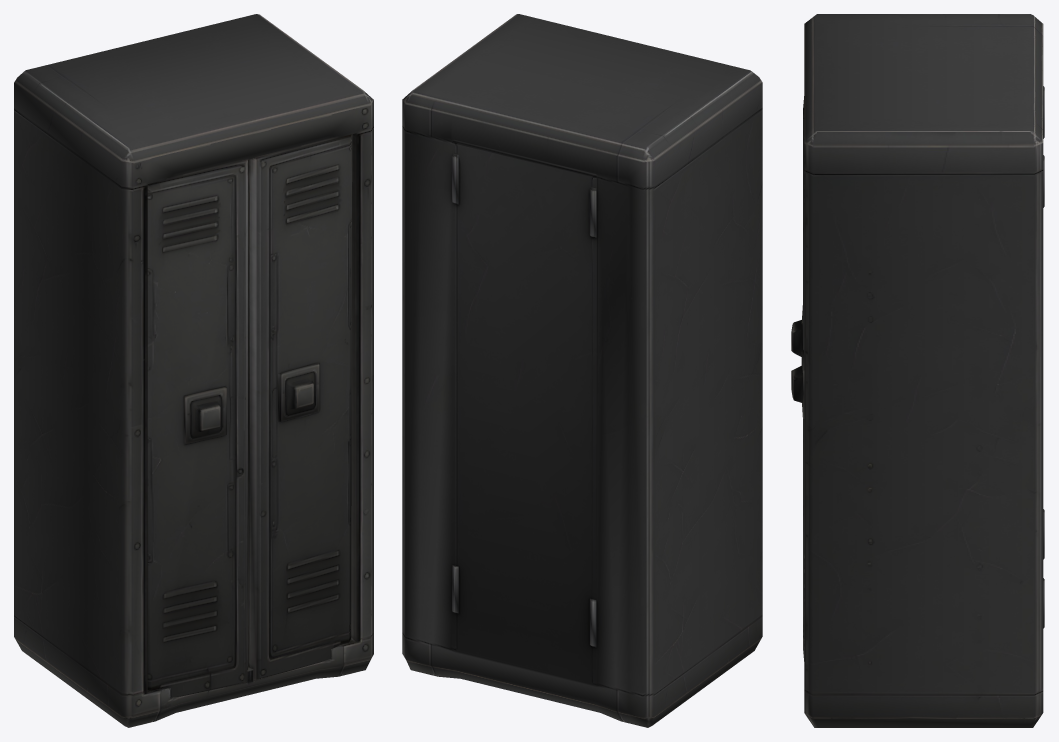
File: Locker.fbx
3 views of the same model, side by side, from view 1: azimuth 30°, elevation 25°; view 2: azimuth 150°, elevation 25°; view 3: azimuth 270°, elevation 25° (orthographic). The views are drawn at different scales.
Visible parts, largest first — view 1: tripo_node_b6b579e3; view 2: tripo_node_b6b579e3; view 3: tripo_node_b6b579e3.
Boxes of the visible parts, x1=… form: tripo_node_b6b579e3: x1=14, y1=14, x2=373, y2=727; tripo_node_b6b579e3: x1=402, y1=14, x2=762, y2=727; tripo_node_b6b579e3: x1=791, y1=14, x2=1044, y2=727.
Bounding box in the file's own units: 0.4551 × 0.998 × 0.3848.
